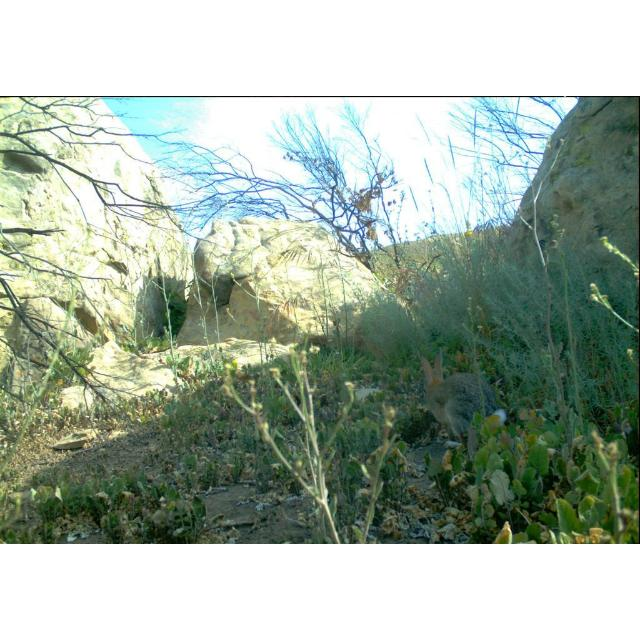animals: (415, 354, 495, 441)
